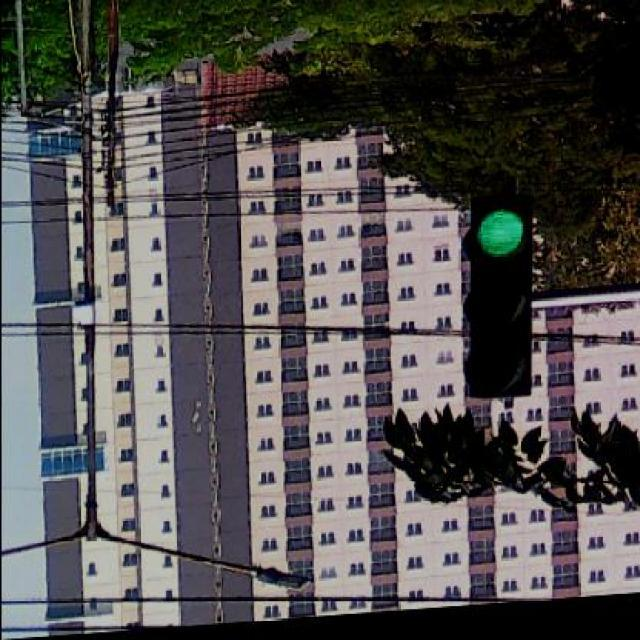traffic light: (462, 195, 534, 400)
